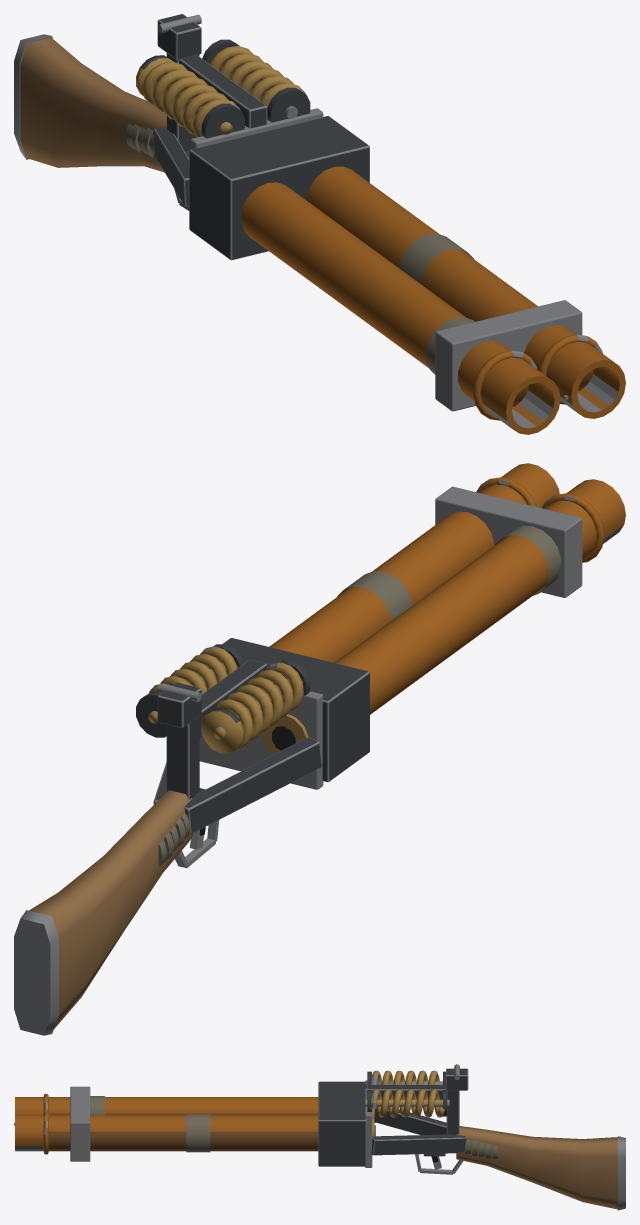
Rendered from gravel_blaster.fbx.
3 renders of one model, top to bottom at view 1: azimuth 30°, elevation 25°; view 2: azimuth 150°, elevation 25°; view 3: azimuth 270°, elevation 25°, orthographic. The views are drawn at different scales.
Parts seen in each view (by area): view 1: Mesh_GravelBlaster_Twin; view 2: Mesh_GravelBlaster_Twin; view 3: Mesh_GravelBlaster_Twin.
Part boxes in pixels (x1,y1,x2,y2): Mesh_GravelBlaster_Twin: [14, 14, 625, 434]; Mesh_GravelBlaster_Twin: [14, 463, 625, 1035]; Mesh_GravelBlaster_Twin: [15, 1064, 625, 1210].
Size of the model in its own units: 18.4 by 30.12 by 122.
